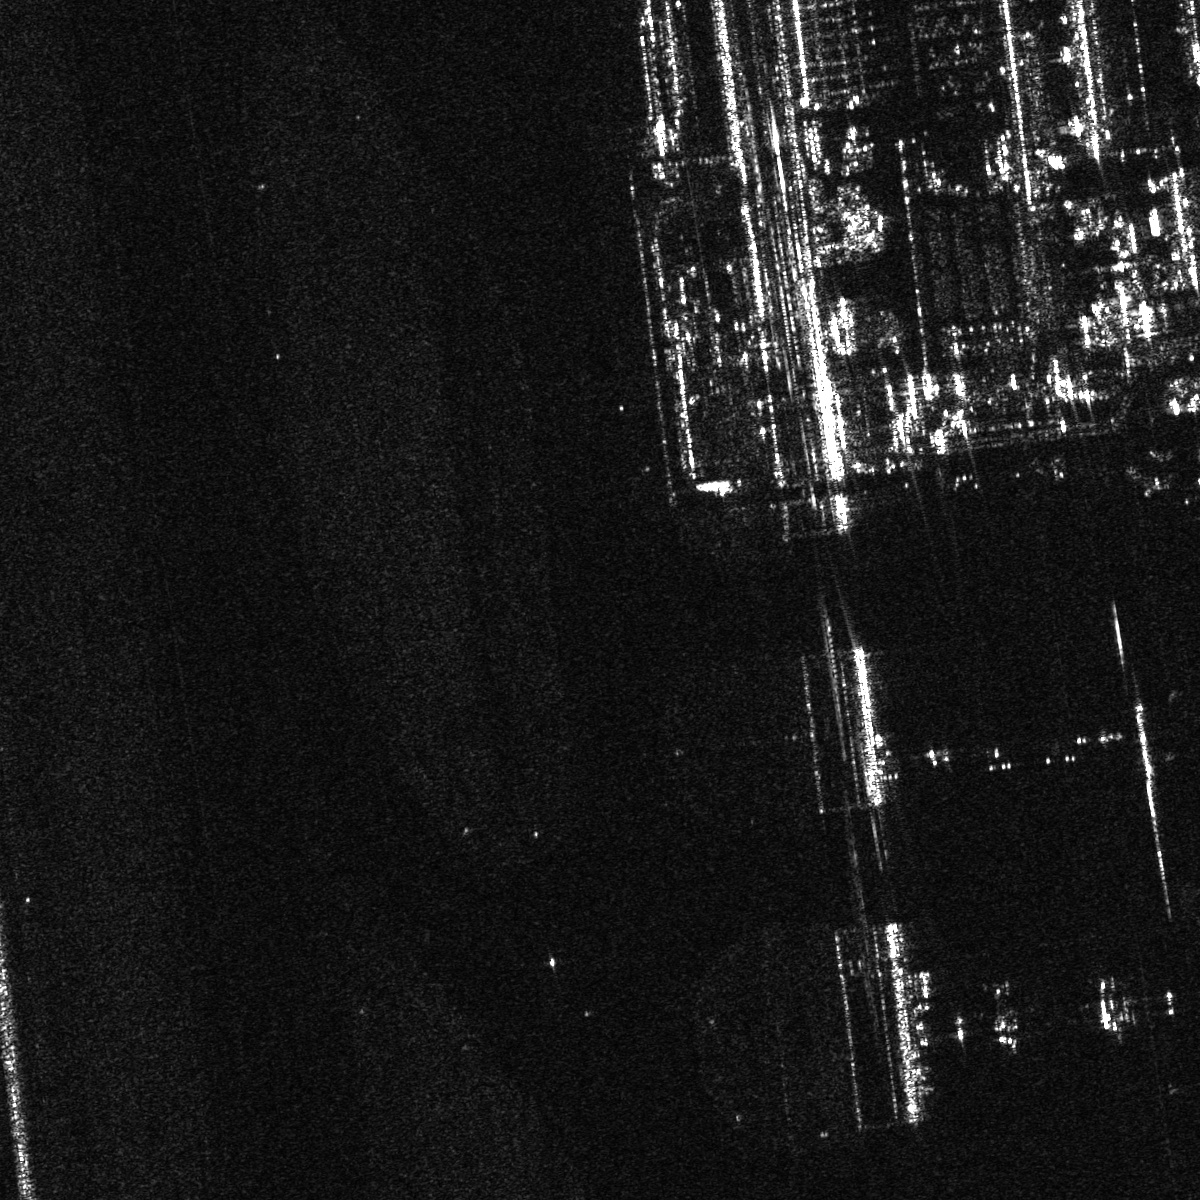A220: (973, 979, 1037, 1052)
